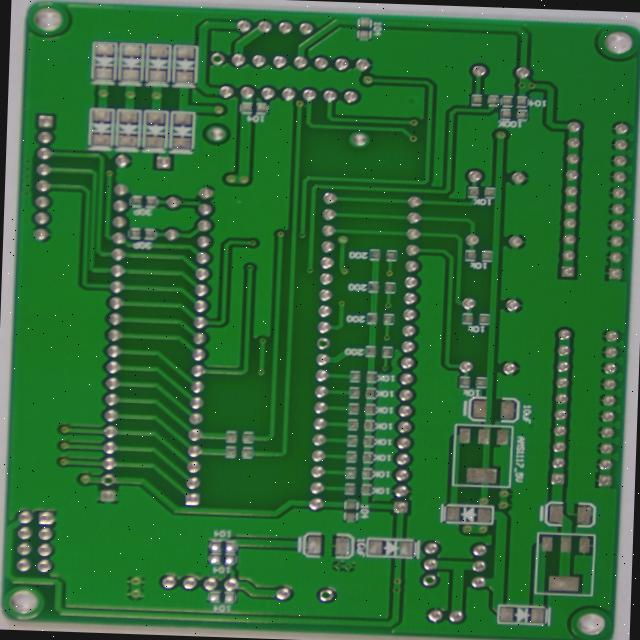missing_hole: (107, 462, 127, 480), (346, 584, 367, 600), (227, 20, 246, 37), (341, 320, 361, 335), (458, 571, 477, 584)
